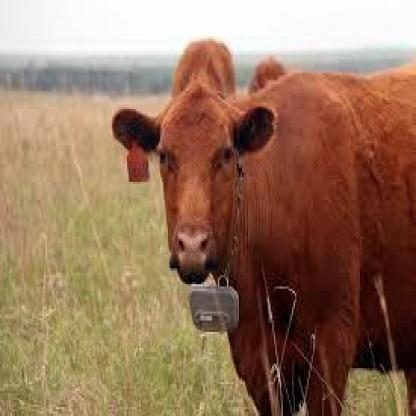cow: (113, 75, 416, 416)
